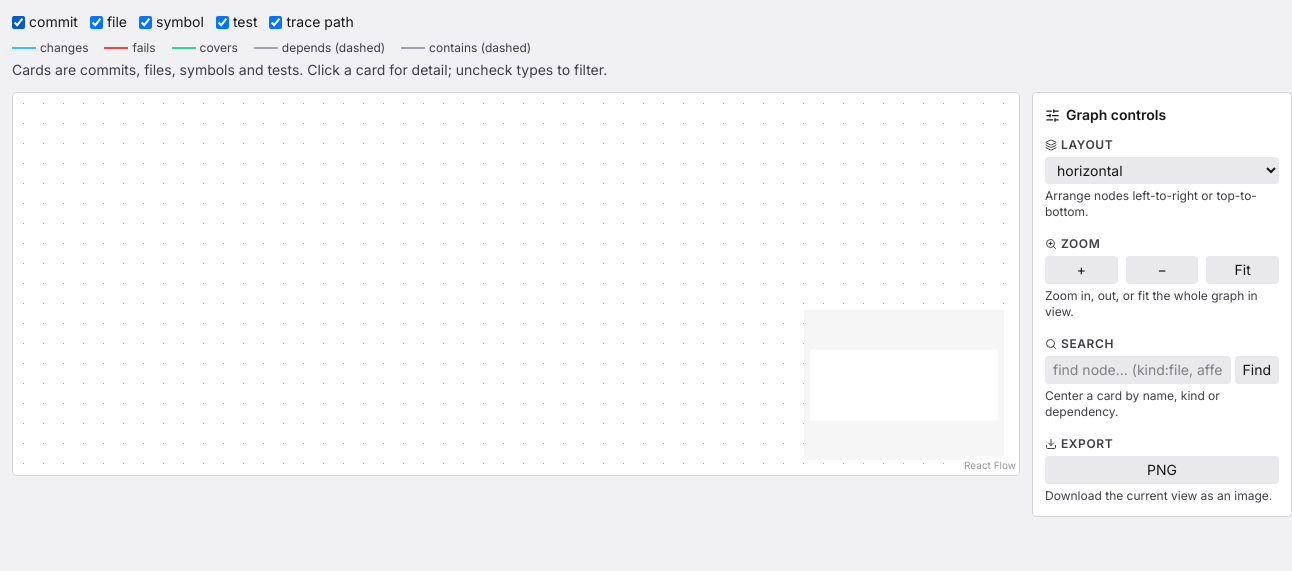
Test case: GraphExplorer › finds a node by label and shows its detail
Type "db.py" into the field named "find node by label" at (1138, 370), box [1045,356,1230,384]
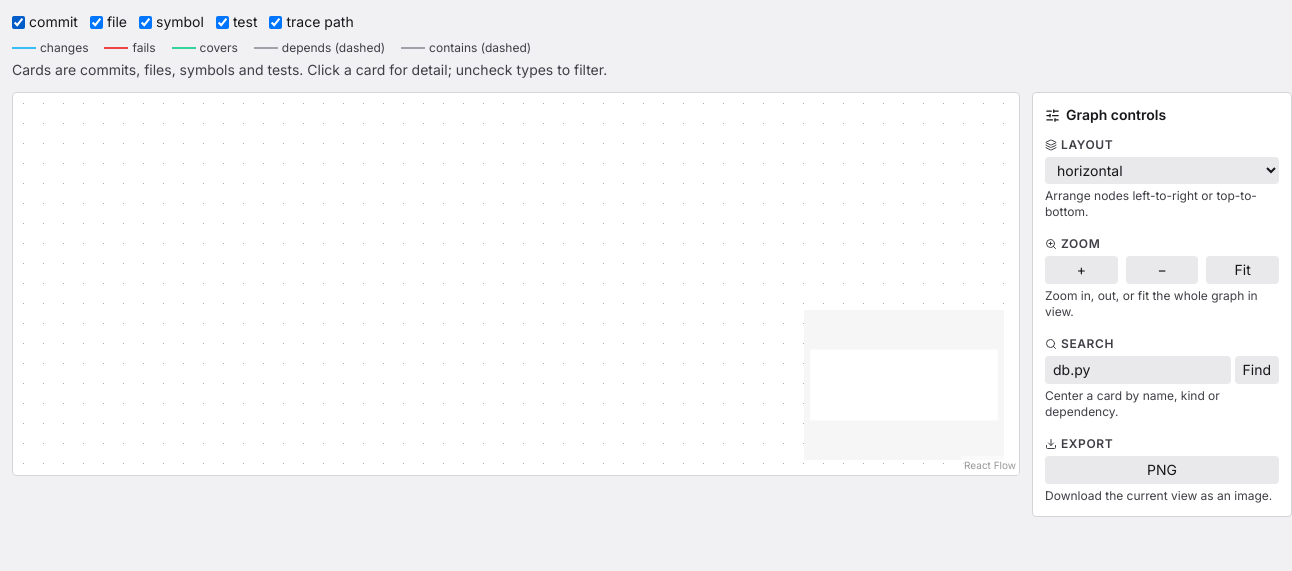
Click the button "Find" at (1257, 370), box [1234,356,1279,384]
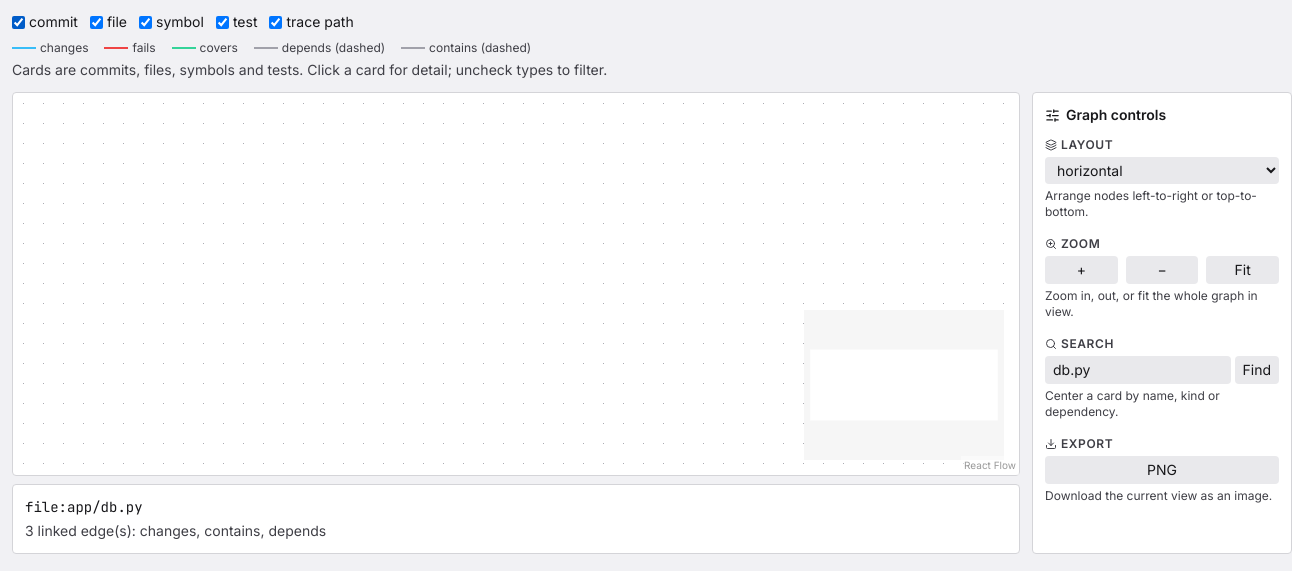
Check: the text "file:app/db.py" is shown, box [25,498,143,516]
